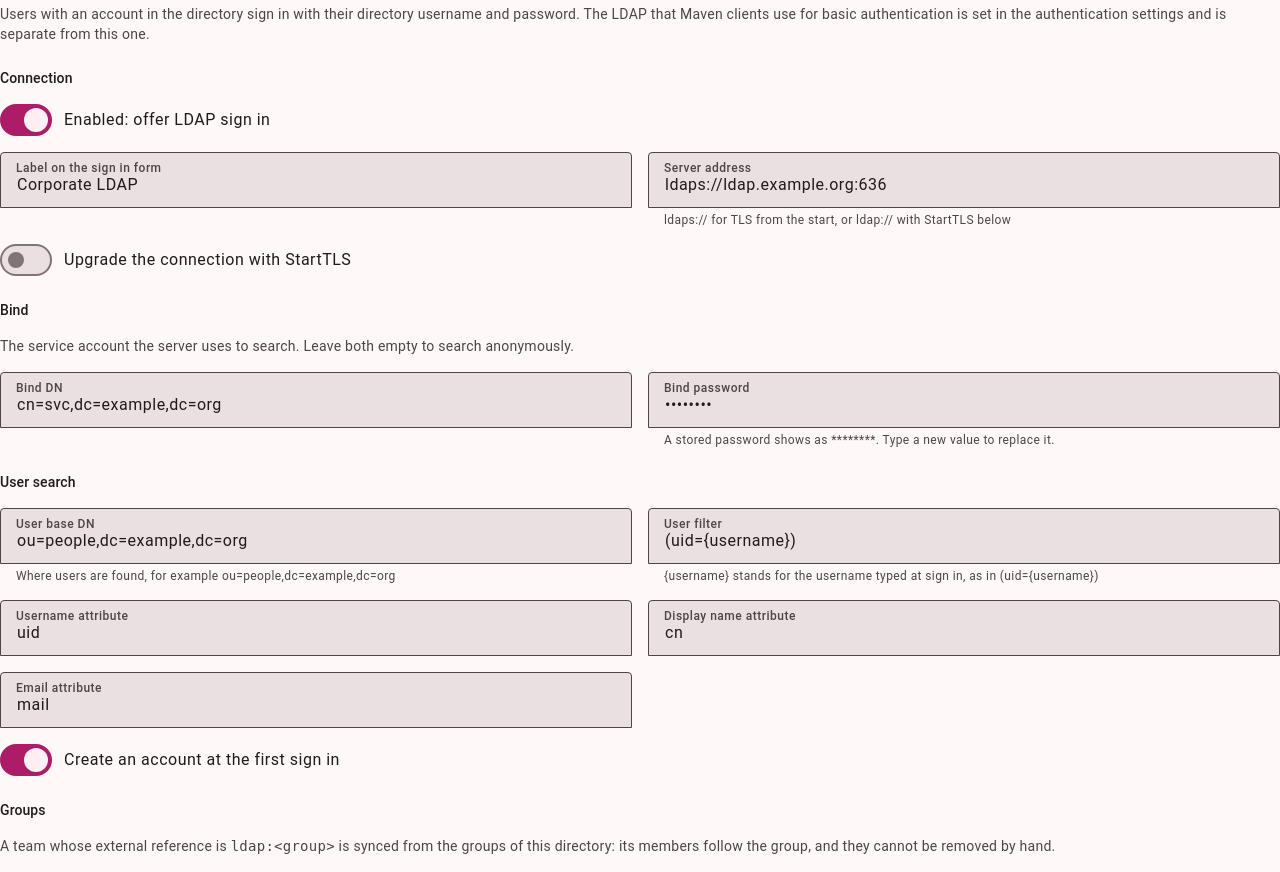
Test case: LdapPanel › test connection › is not offered while the form holds changes, because it would read the saved ones
Replace the text in the field with id "ldap-user-base" with "ou=staff,dc=example,dc=org" at (316, 536), box x1=0 y1=508 x2=632 y2=564
(page scrolled)
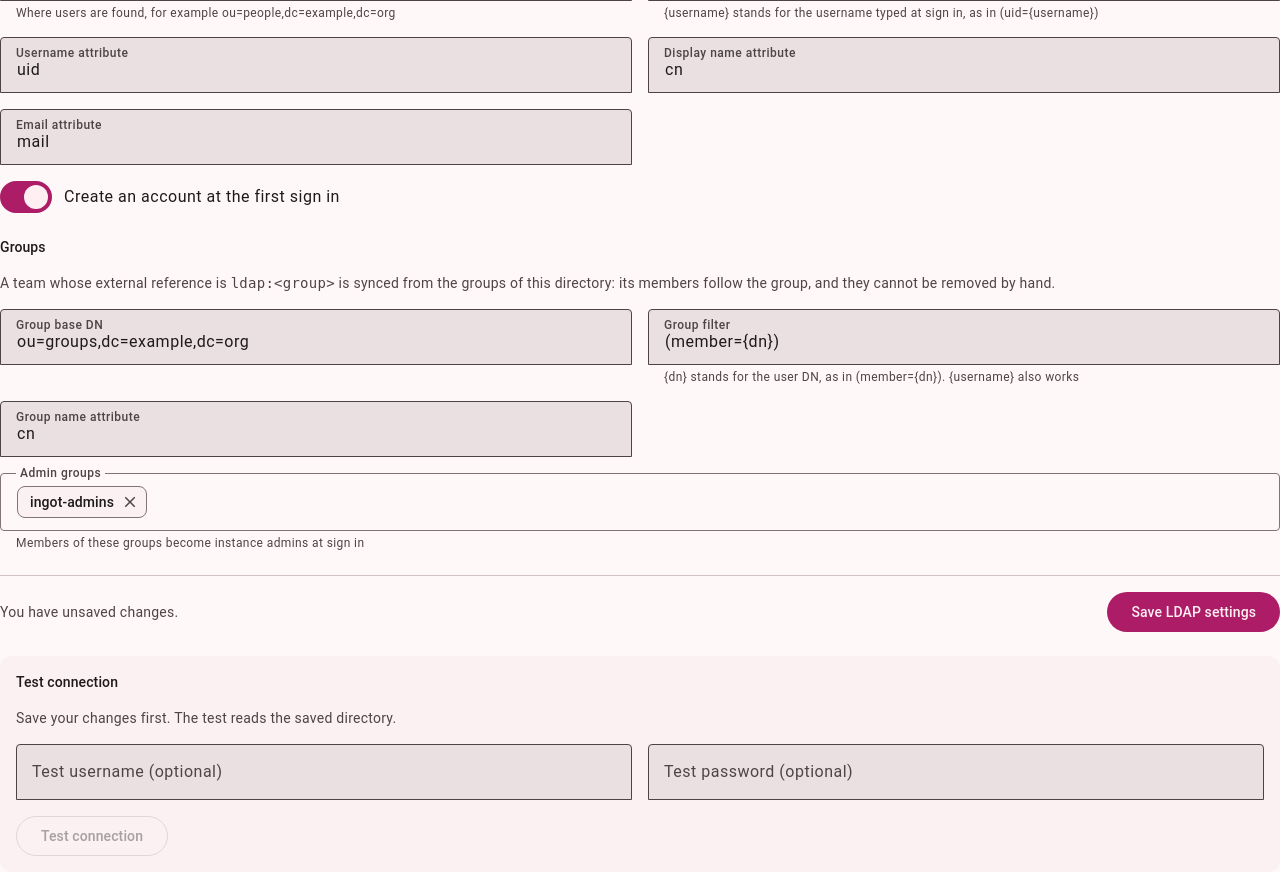
Expected: the button "Test connection" is disabled, x1=16 y1=816 x2=168 y2=856
Expected: the text "Save your changes first" is shown, x1=16 y1=710 x2=396 y2=726
